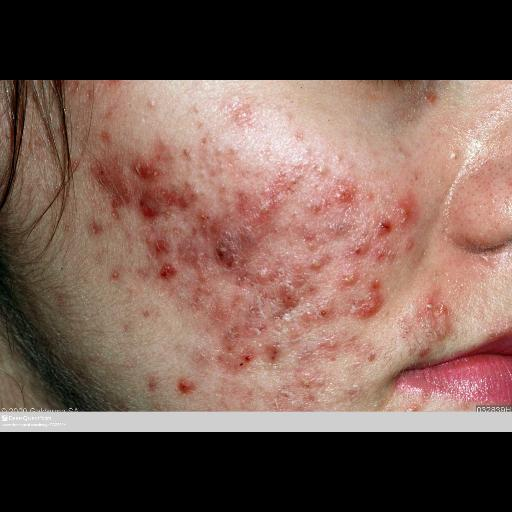Skin_Lesion: (192, 345, 252, 373), (354, 282, 388, 320), (414, 290, 452, 322), (226, 101, 264, 133), (244, 296, 276, 330), (286, 138, 324, 166), (299, 378, 329, 410), (298, 227, 326, 259), (179, 231, 205, 265), (212, 240, 240, 270), (257, 202, 285, 232), (263, 386, 293, 408), (396, 196, 420, 222), (300, 302, 326, 326), (274, 171, 298, 195), (134, 156, 156, 182), (370, 213, 392, 239), (328, 216, 354, 238), (252, 270, 278, 292), (152, 141, 174, 163), (278, 284, 298, 308), (339, 184, 359, 206), (140, 200, 158, 224), (179, 186, 197, 210), (154, 234, 172, 256), (108, 184, 130, 202), (158, 264, 178, 282), (236, 224, 258, 240), (316, 169, 334, 187), (178, 376, 194, 396), (364, 342, 380, 362), (266, 342, 282, 362), (320, 336, 340, 352), (196, 284, 216, 300), (234, 195, 248, 217), (91, 218, 105, 238), (306, 201, 328, 213), (424, 90, 440, 106), (146, 372, 158, 392), (351, 242, 367, 256), (94, 162, 108, 178), (193, 216, 221, 224), (109, 268, 123, 282), (101, 130, 115, 144), (198, 136, 212, 150), (142, 304, 152, 320), (146, 98, 156, 112), (181, 148, 191, 162), (104, 108, 116, 118), (193, 122, 205, 132), (104, 80, 120, 86)
